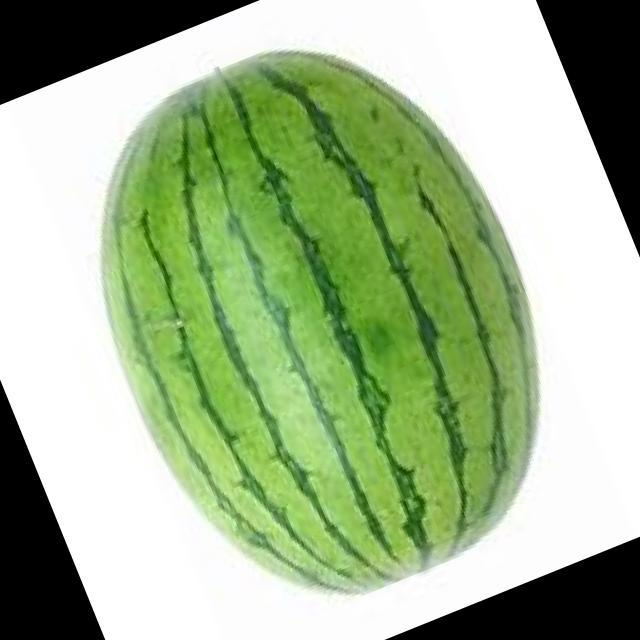watermelon: (97, 50, 543, 601)
